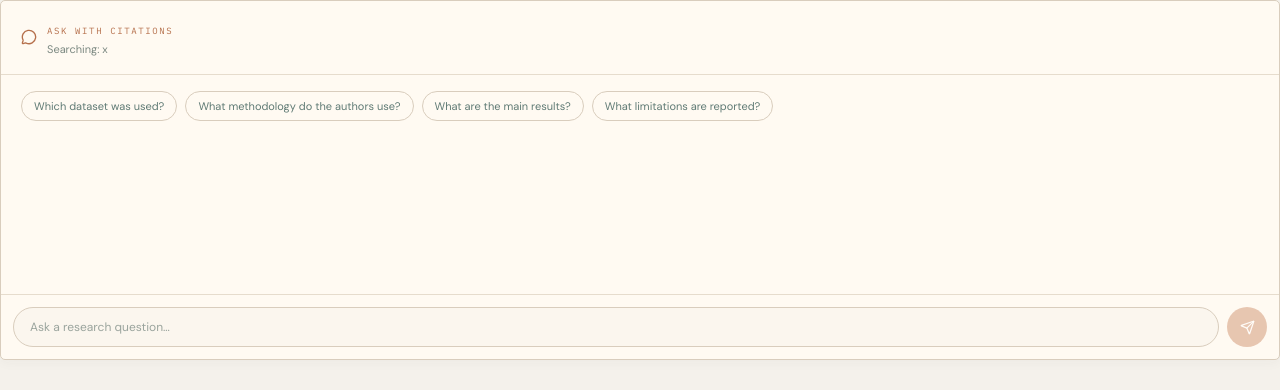
Test: ChatPanel › states clearly when evidence is insufficient or no LLM is configured
Type "q" into the field labelled "research question" at (616, 327), box [13,307,1219,347]
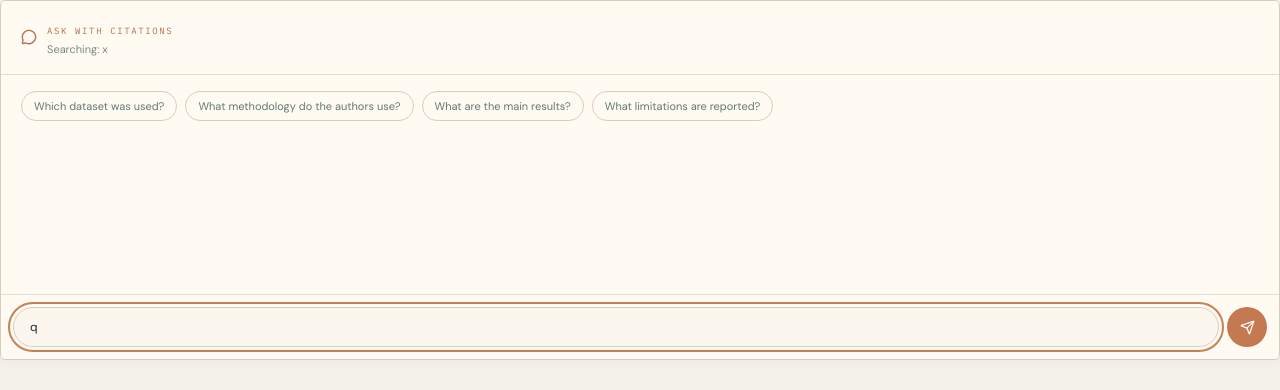
Click the button named "Send question" at (1247, 327), box [1227,307,1267,347]
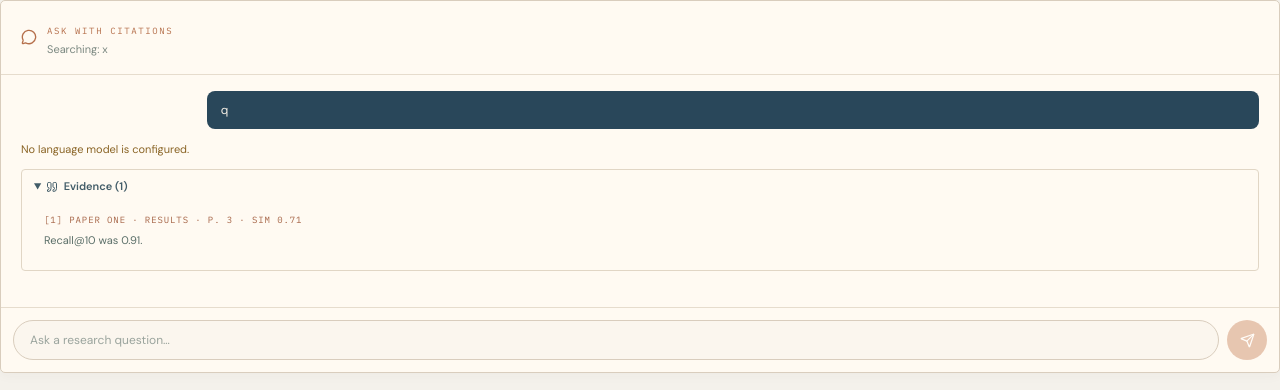
Check: the text "No language model is configured." is shown, box [21,142,189,156]
